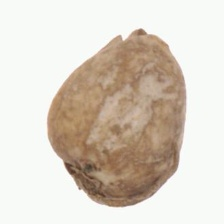L1: (60, 156, 105, 201), (111, 27, 169, 49)
L2: (45, 26, 187, 207)
